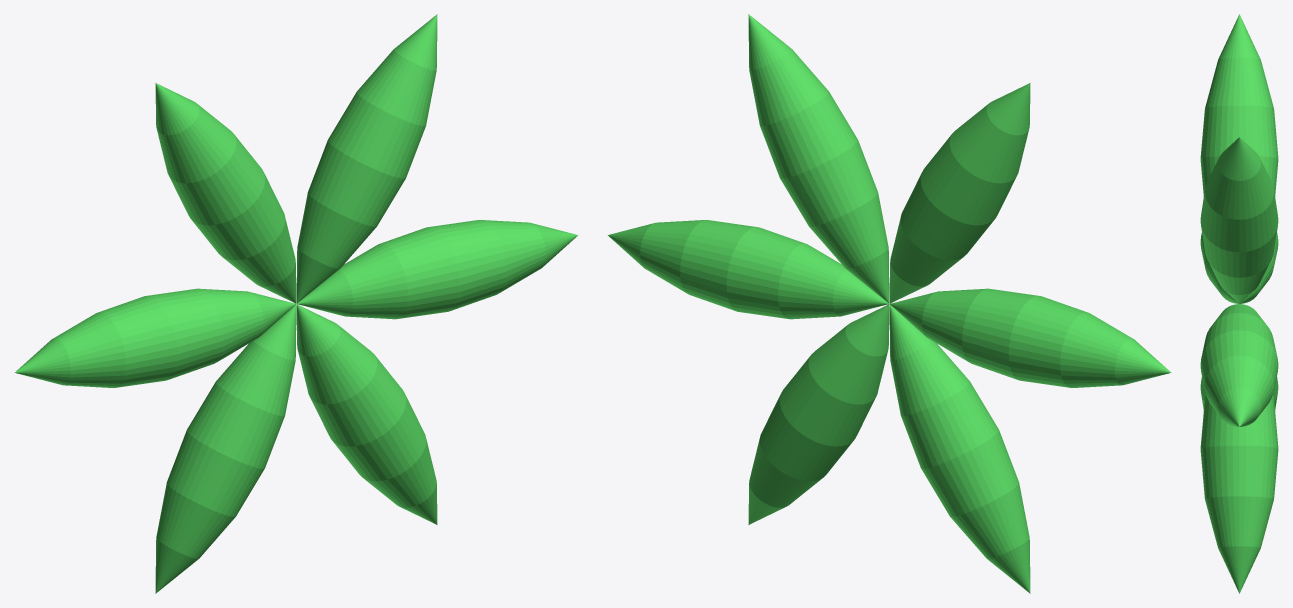
File: flowerOfLife.glb
3 renders of one model, left to right at view 1: azimuth 30°, elevation 25°; view 2: azimuth 150°, elevation 25°; view 3: azimuth 270°, elevation 25°, orthographic. The views are drawn at different scales.
Parts seen in each view (by area): view 1: root; view 2: root; view 3: root.
Boxes of the visible parts, box(x1,y1,x2,y2) form: root: box(14, 14, 578, 593); root: box(607, 14, 1171, 593); root: box(1200, 14, 1278, 593).
Size of the model in its own units: 2 by 1.73 by 0.2679.
